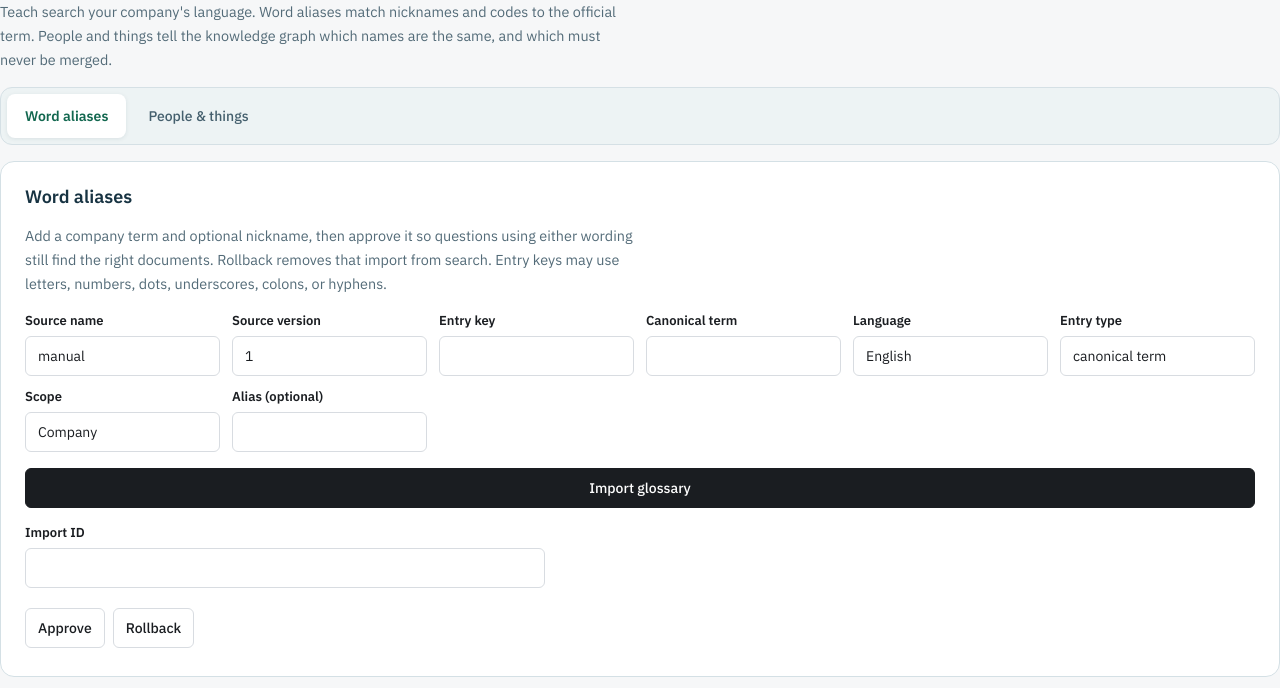
Test: CurationPanel › shows Reload rule after a stale PATCH
Click the tab "People & things" at (198, 116), box [130, 94, 267, 138]
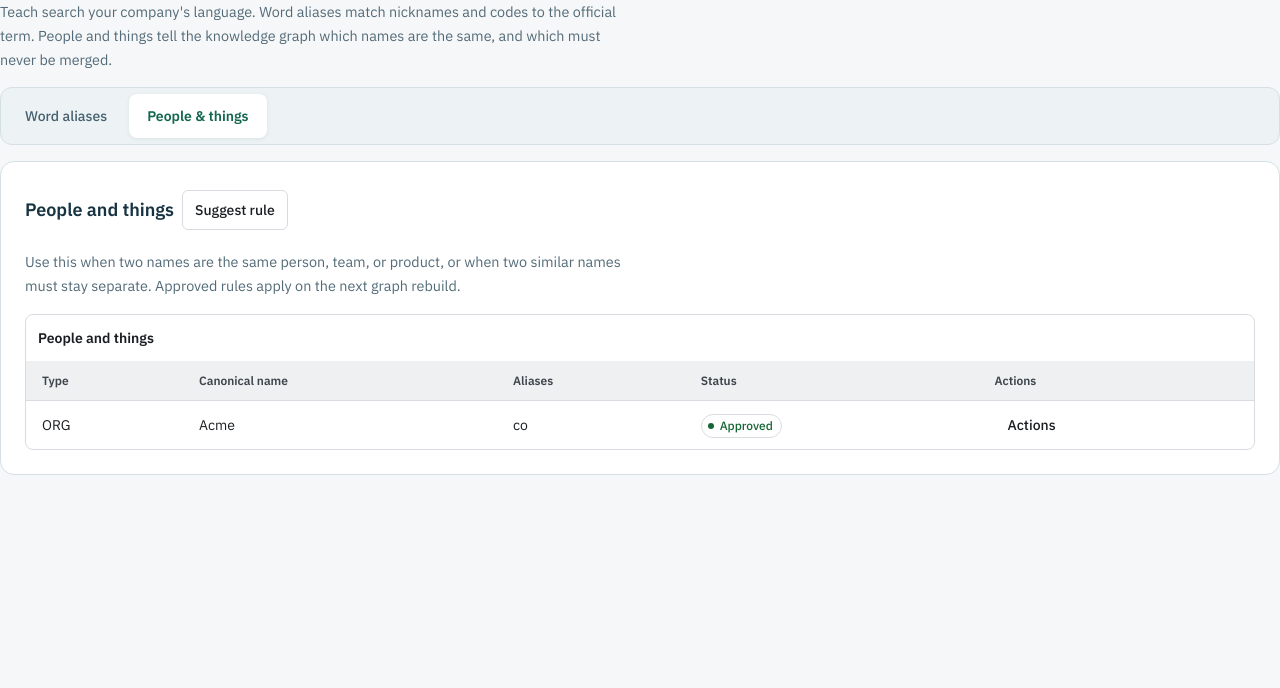
Click the button with aria-label "Rule actions" at (1032, 425), box [994, 405, 1069, 445]
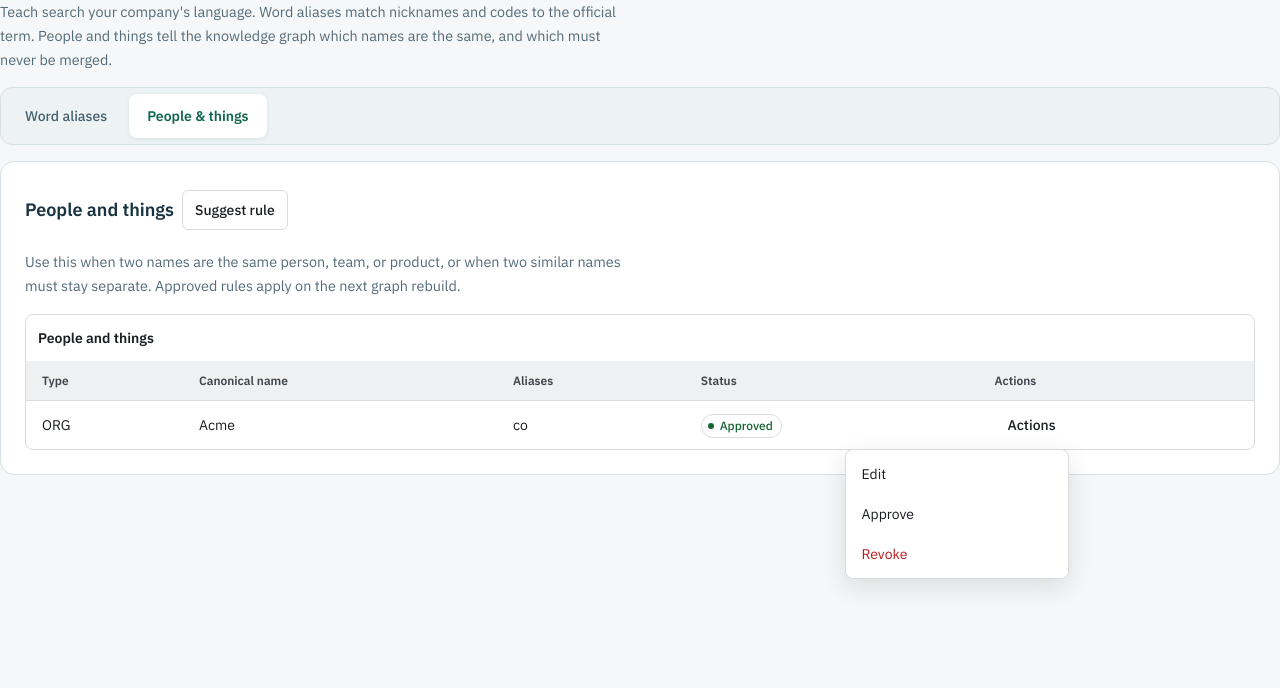
Click the menu item "Edit" at (956, 474), box [850, 454, 1064, 494]
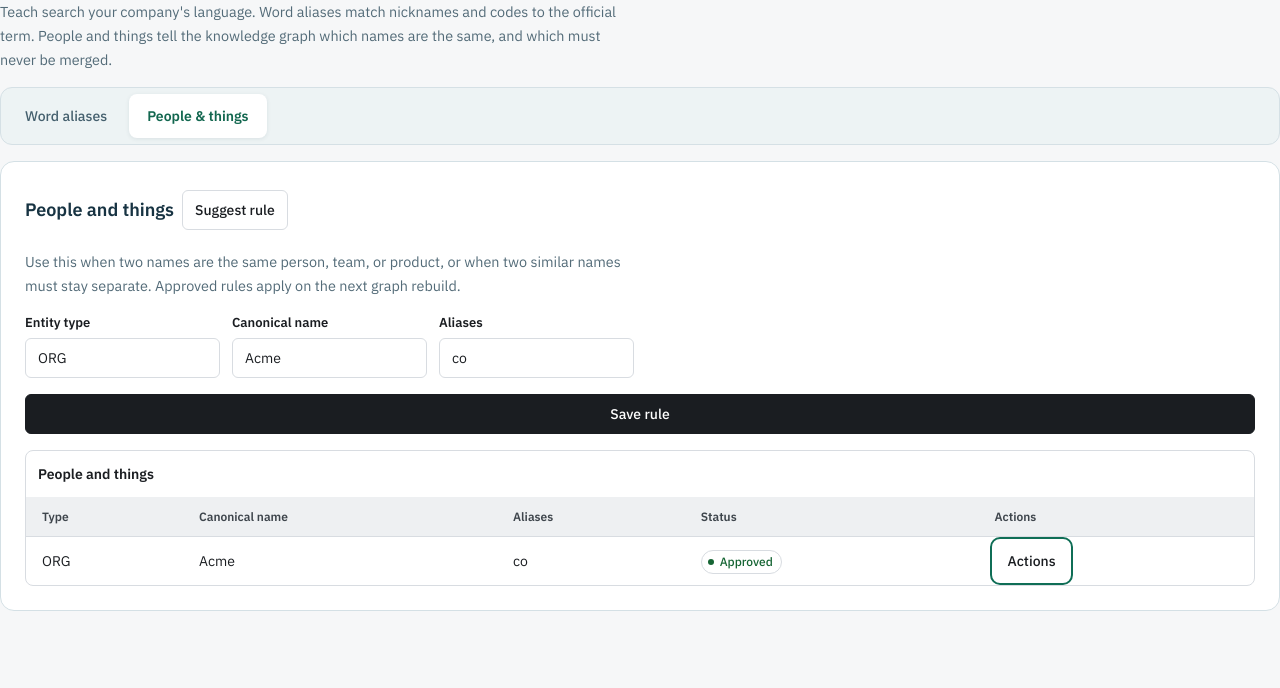
Click the button "Save rule" at (640, 414), box [25, 394, 1255, 434]
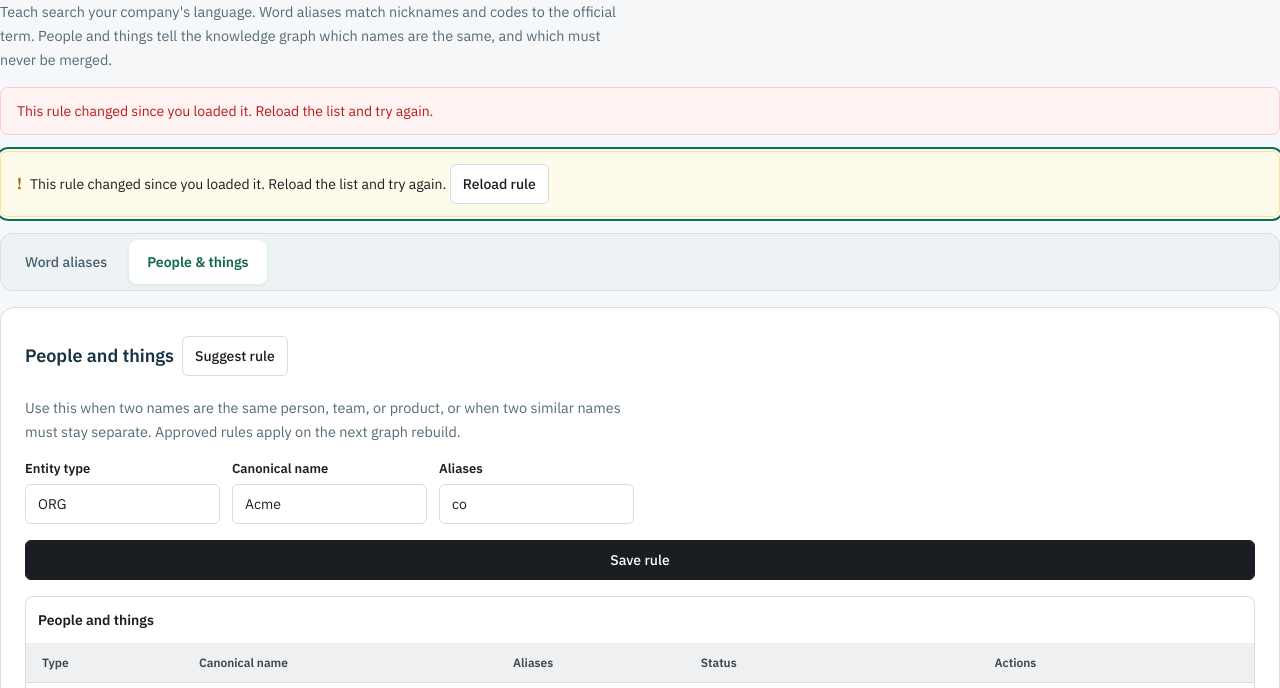
Now the button "Reload rule" is shown, box [450, 164, 549, 204]
